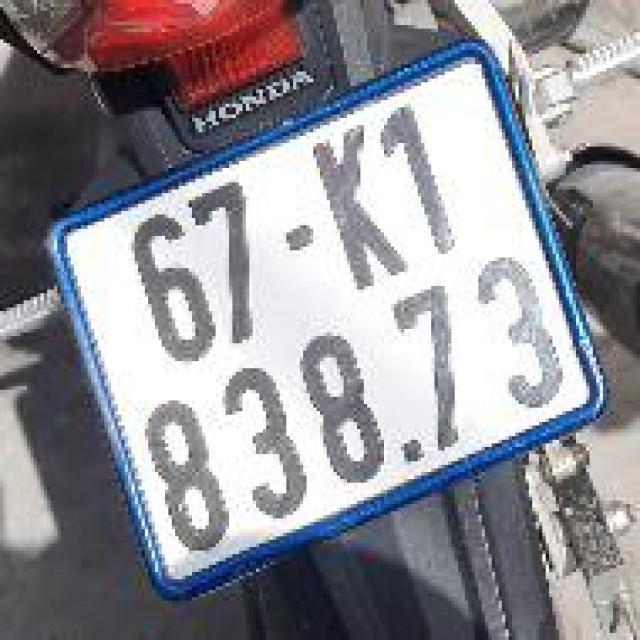1: (371, 93, 469, 268)
3: (202, 344, 332, 538), (459, 236, 586, 428)
6: (118, 204, 232, 383)
7: (376, 272, 500, 466), (181, 165, 291, 361)
8: (278, 317, 403, 510), (130, 382, 248, 576)
K: (302, 114, 418, 305)
